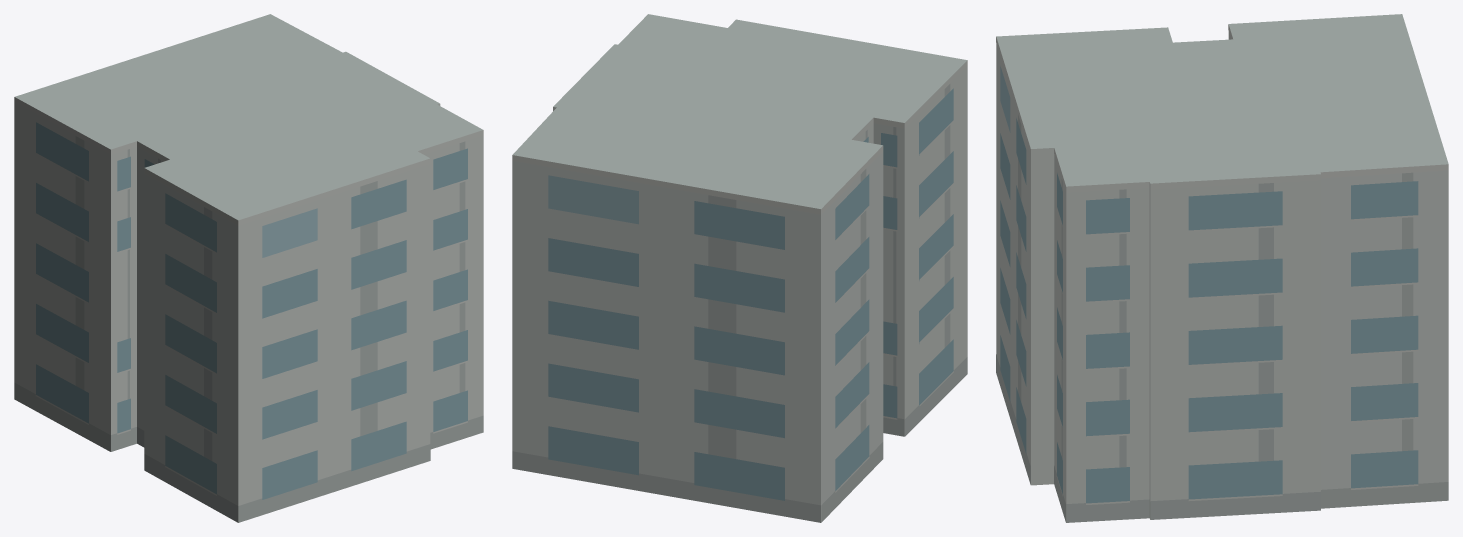
File: survey-upis-32629813.glb
The picture shows the model from 3 angles, left to right: view 1: azimuth 30°, elevation 25°; view 2: azimuth 150°, elevation 25°; view 3: azimuth 270°, elevation 25°; orthographic projection. The views are drawn at different scales.
Visible parts, largest first — view 1: survey-upis-32629813.tmp; view 2: survey-upis-32629813.tmp; view 3: survey-upis-32629813.tmp.
Part boxes in pixels (bbox=[...]): survey-upis-32629813.tmp: bbox=[14, 14, 483, 522]; survey-upis-32629813.tmp: bbox=[512, 14, 967, 522]; survey-upis-32629813.tmp: bbox=[996, 14, 1448, 522].
Size of the model in its own units: 14.64 by 13.3 by 16.23.
